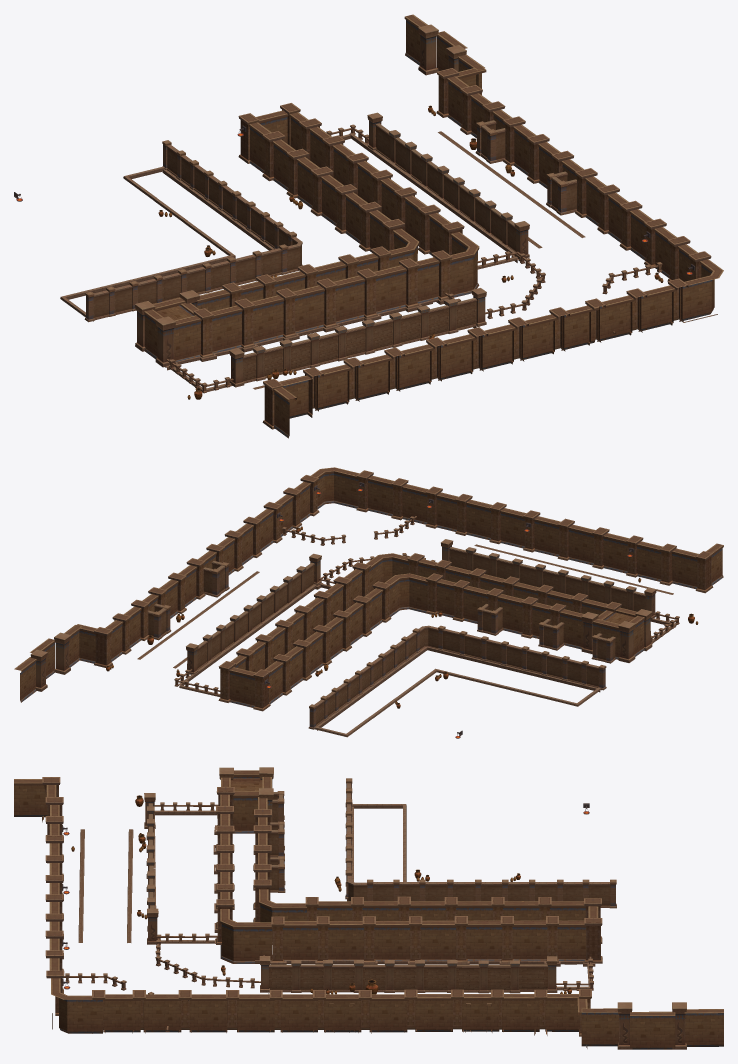
The model's file is qiangbi_group2.fbx.
The picture shows the model from 3 angles, top to bottom: view 1: azimuth 30°, elevation 25°; view 2: azimuth 150°, elevation 25°; view 3: azimuth 270°, elevation 25°; orthographic projection. The views are drawn at different scales.
Parts seen in each view (by area): view 1: qiangbi_group2; view 2: qiangbi_group2; view 3: qiangbi_group2.
Part boxes in pixels (x1,y1,x2,y2): qiangbi_group2: (14, 14, 723, 438); qiangbi_group2: (14, 467, 723, 738); qiangbi_group2: (14, 767, 723, 1049).
Bounding box in the file's own units: 10261 × 847 × 12216.
